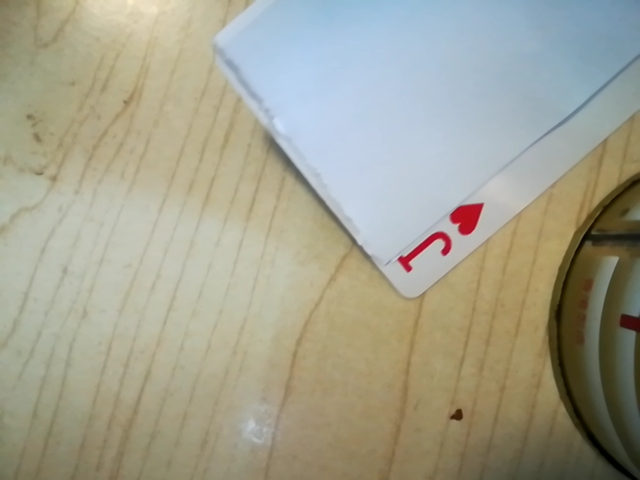hx j: (392, 196, 492, 279)
